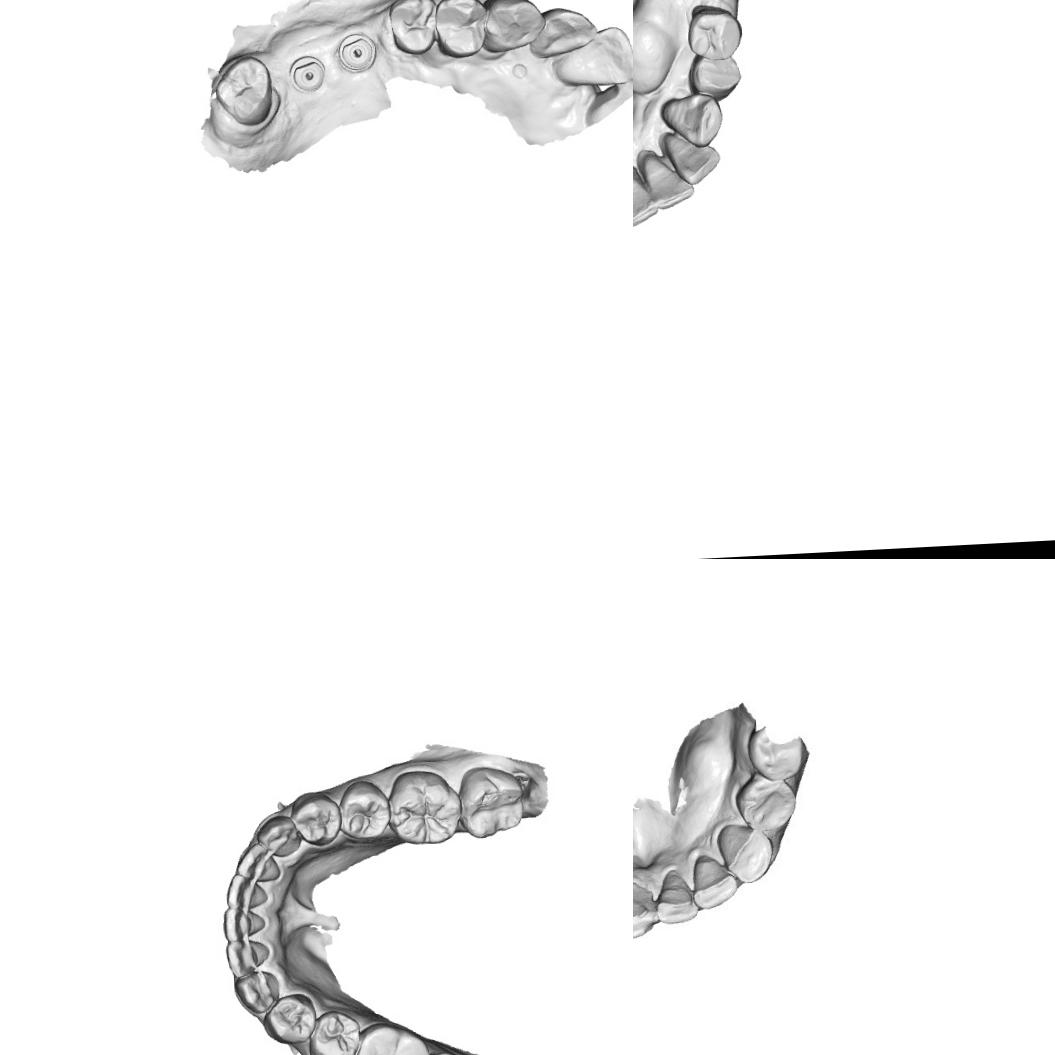canine: (657, 89, 726, 149), (714, 822, 777, 887), (479, 0, 546, 57), (232, 968, 280, 1015), (254, 812, 302, 858)
implant: (335, 30, 378, 75), (285, 52, 328, 95)
incisor: (549, 22, 633, 91), (525, 2, 601, 61), (661, 128, 721, 188), (640, 150, 694, 210), (652, 864, 699, 929), (688, 856, 738, 909), (234, 841, 281, 884), (224, 937, 271, 979), (221, 904, 266, 943), (223, 870, 268, 908), (633, 885, 661, 944), (633, 163, 658, 225)
molar: (386, 766, 464, 846), (209, 52, 280, 129), (459, 764, 528, 839), (346, 1018, 432, 1055)
premolar: (736, 776, 799, 838), (432, 0, 493, 59), (336, 778, 392, 842), (383, 0, 442, 59), (684, 2, 744, 60), (684, 47, 744, 102), (288, 788, 344, 846), (750, 721, 805, 779), (260, 992, 317, 1044), (305, 1007, 361, 1055)
